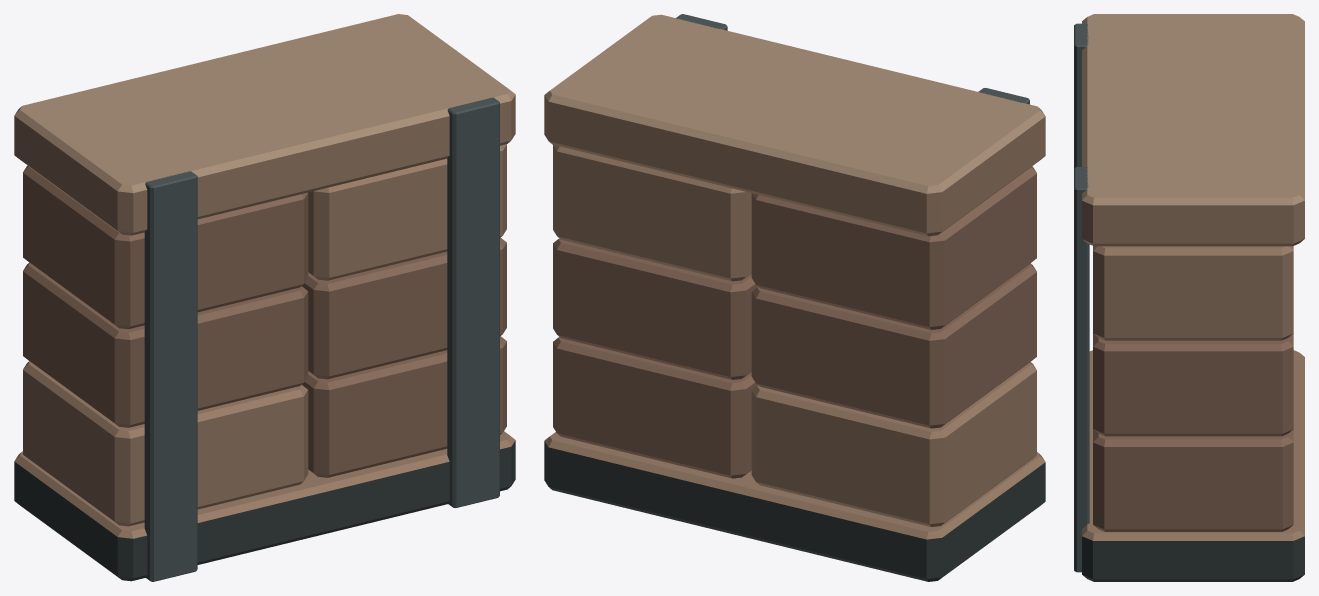
Rendered from wall-short.glb.
The picture shows the model from 3 angles, left to right: view 1: azimuth 30°, elevation 25°; view 2: azimuth 150°, elevation 25°; view 3: azimuth 270°, elevation 25°; orthographic projection. The views are drawn at different scales.
Parts seen in each view (by area): view 1: wall-short__body; view 2: wall-short__body; view 3: wall-short__body.
Boxes of the visible parts, x1,y1,x2,y2 form: wall-short__body: (14, 14, 515, 581); wall-short__body: (544, 14, 1045, 581); wall-short__body: (1074, 14, 1304, 581).
Bounding box in the file's own units: 1 × 0.95 × 0.5175.
